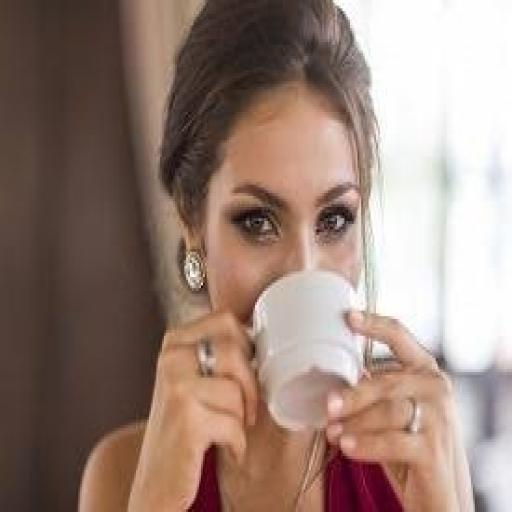drinking: (248, 0, 358, 431)
